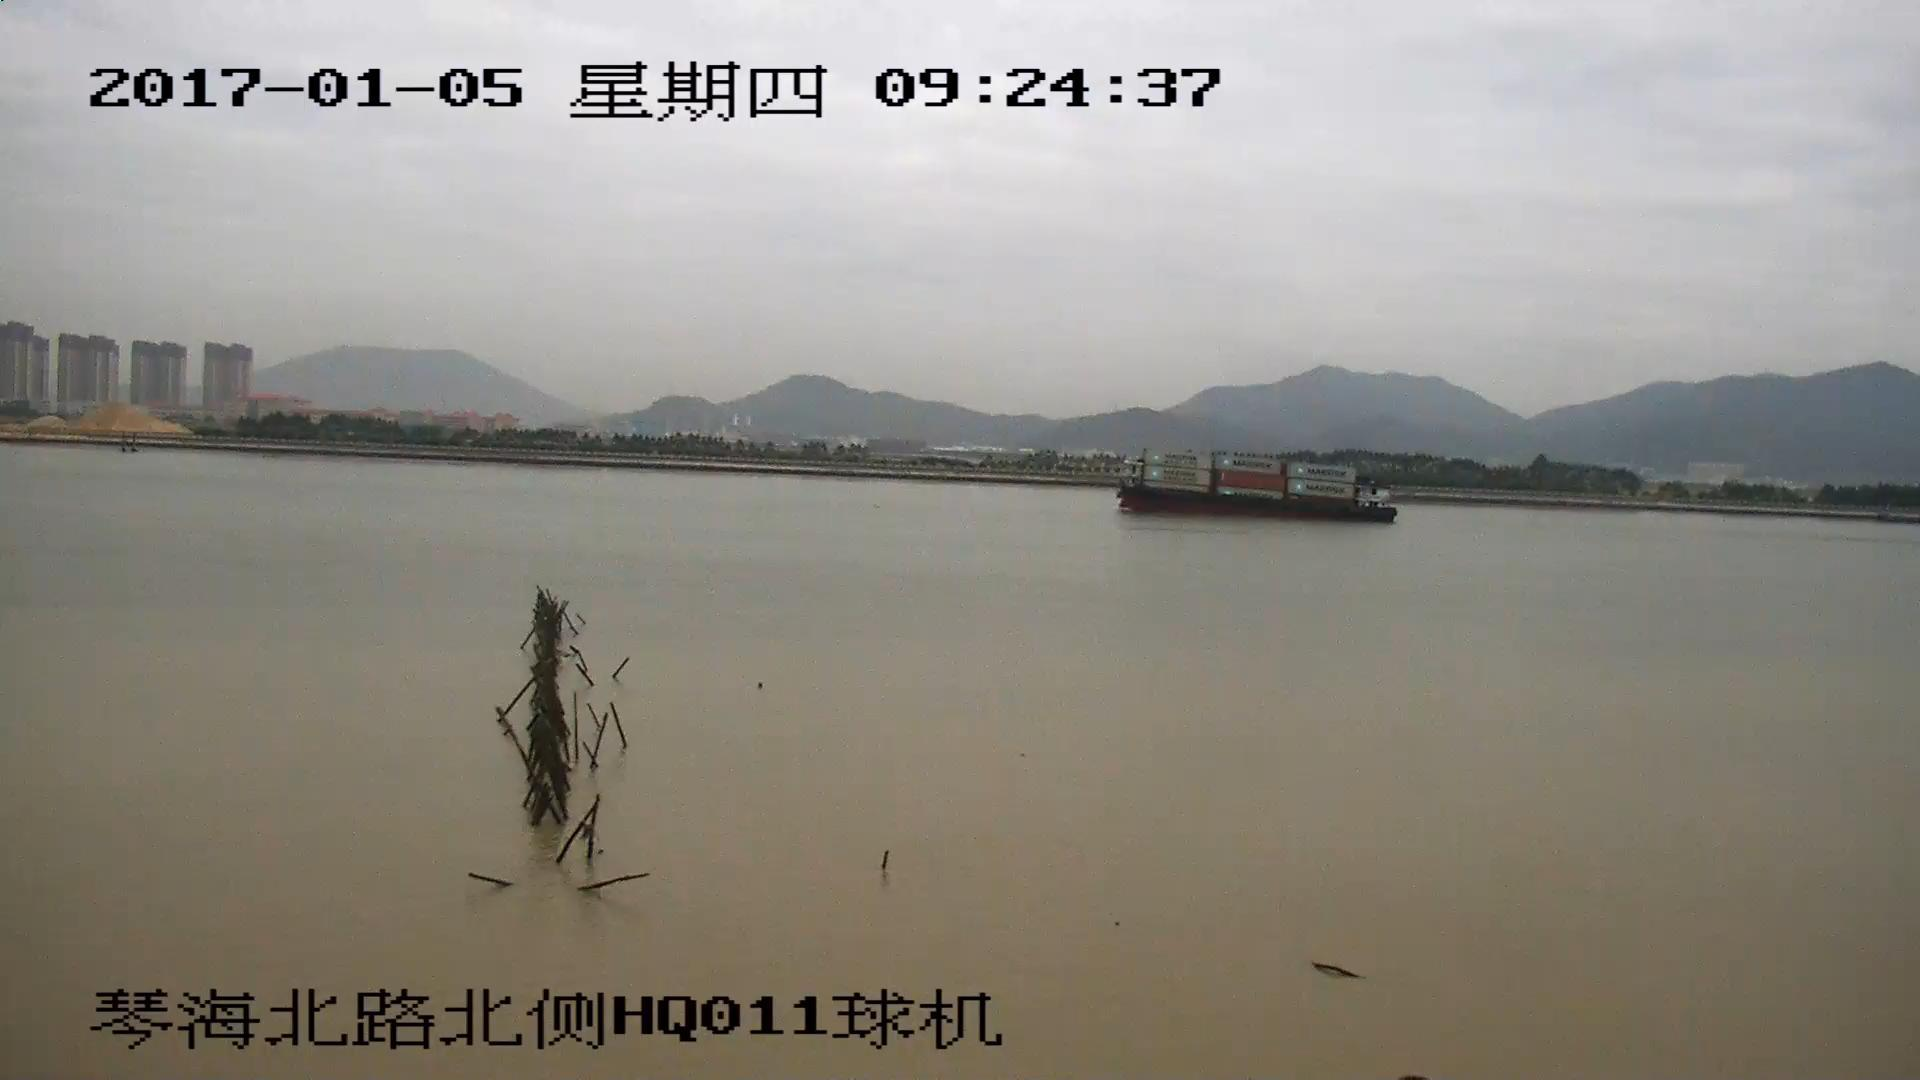Ship: (1113, 451, 1399, 525)
